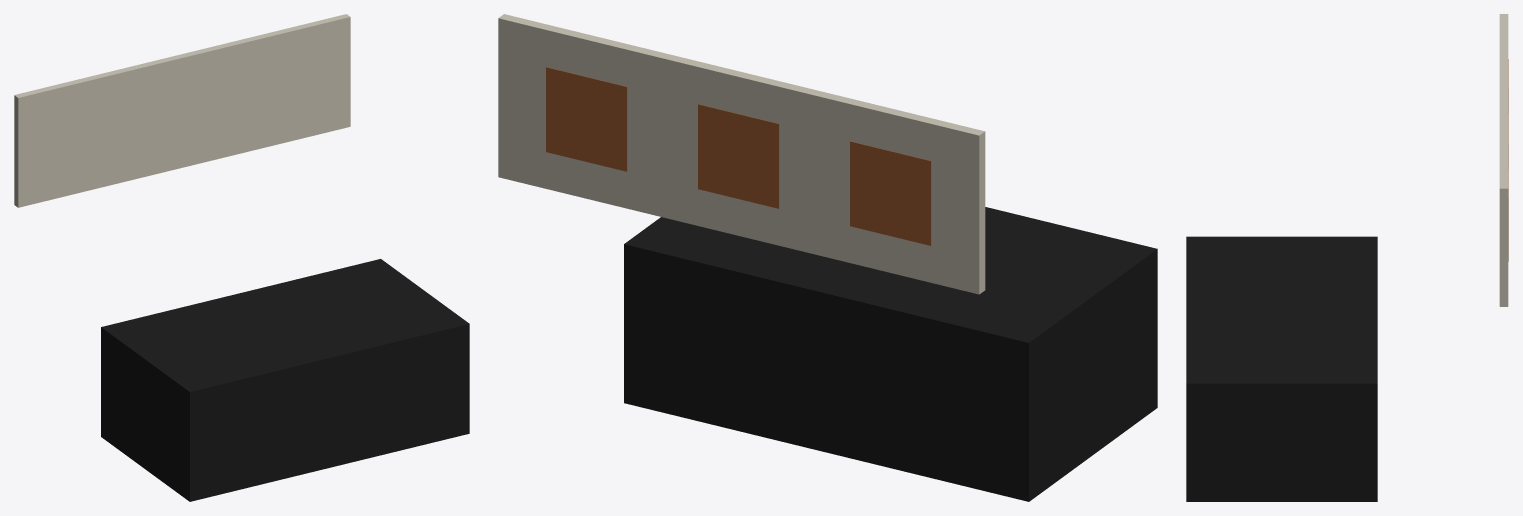
Rendered from kt1_busbar.obj.
The picture shows the model from 3 angles, left to right: view 1: azimuth 30°, elevation 25°; view 2: azimuth 150°, elevation 25°; view 3: azimuth 270°, elevation 25°; orthographic projection. The views are drawn at different scales.
Parts seen in each view (by area): view 1: kt1_busbar; view 2: kt1_busbar; view 3: kt1_busbar.
Boxes of the visible parts, left/top/right/bottom form: kt1_busbar: left=14, top=14, right=469, bottom=501; kt1_busbar: left=498, top=14, right=1157, bottom=501; kt1_busbar: left=1186, top=14, right=1508, bottom=501.
Bounding box in the file's own units: 0.95 × 0.83 × 0.741.
